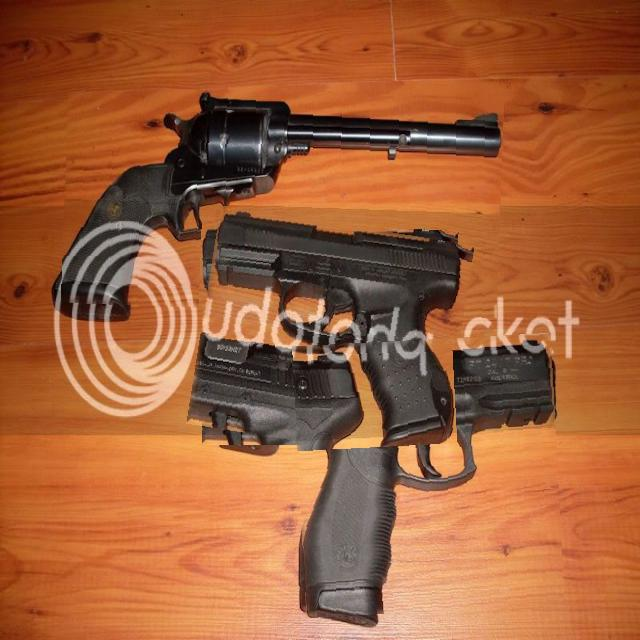gun: (63, 89, 502, 314), (296, 337, 561, 615), (194, 215, 467, 454)
